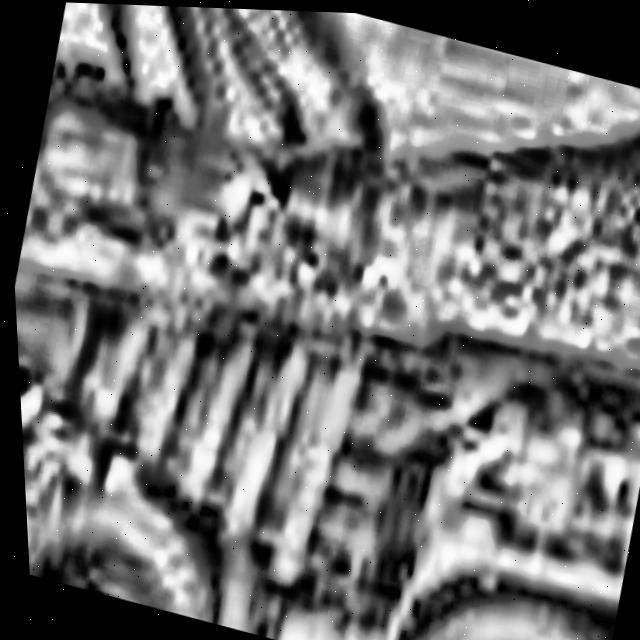dump_truck: (8, 192, 640, 640)
